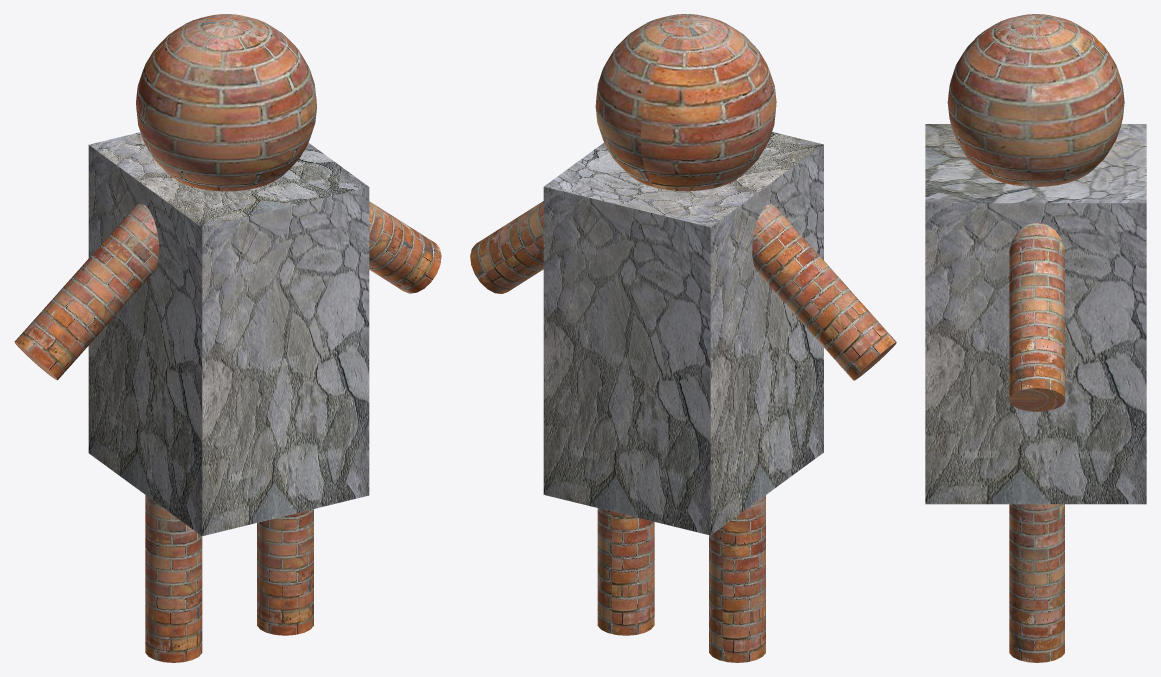
Rendered from doll.FBX.
The picture shows the model from 3 angles, left to right: view 1: azimuth 30°, elevation 25°; view 2: azimuth 150°, elevation 25°; view 3: azimuth 270°, elevation 25°; orthographic projection. The views are drawn at different scales.
Parts seen in each view (by area): view 1: Box001, Sphere001, Cylinder002, Cylinder003, Cylinder004, Cylinder001; view 2: Box001, Sphere001, Cylinder002, Cylinder003, Cylinder004, Cylinder001; view 3: Box001, Sphere001, Cylinder001, Cylinder004.
Boxes of the visible parts, <box> form: Box001: <box>88,132,369,536</box>; Sphere001: <box>136,14,316,191</box>; Cylinder002: <box>14,203,158,380</box>; Cylinder003: <box>145,495,202,662</box>; Cylinder004: <box>257,509,313,635</box>; Cylinder001: <box>369,201,441,293</box>; Box001: <box>543,132,823,535</box>; Sphere001: <box>595,14,776,191</box>; Cylinder002: <box>752,204,896,380</box>; Cylinder003: <box>709,495,765,662</box>; Cylinder004: <box>597,508,654,635</box>; Cylinder001: <box>470,201,543,293</box>; Box001: <box>925,124,1146,504</box>; Sphere001: <box>947,14,1124,186</box>; Cylinder001: <box>1009,222,1064,411</box>; Cylinder004: <box>1009,504,1064,662</box>.
Bounding box in the file's own units: 15.19 × 7.17 × 21.48.
